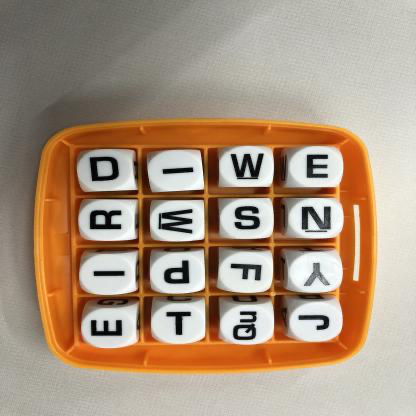d: (80, 149, 136, 192)
e: (288, 147, 344, 189), (81, 308, 136, 350)
f: (219, 249, 274, 293)
i: (80, 254, 137, 295), (149, 151, 205, 191)
j: (287, 299, 343, 342)
n: (287, 198, 344, 239)
p: (150, 252, 206, 294)
qu: (220, 302, 275, 344)
r: (80, 200, 135, 241)
s: (220, 198, 274, 239)
t: (150, 304, 206, 345)
w: (220, 146, 275, 188), (151, 201, 206, 242)
y: (287, 252, 343, 293)
